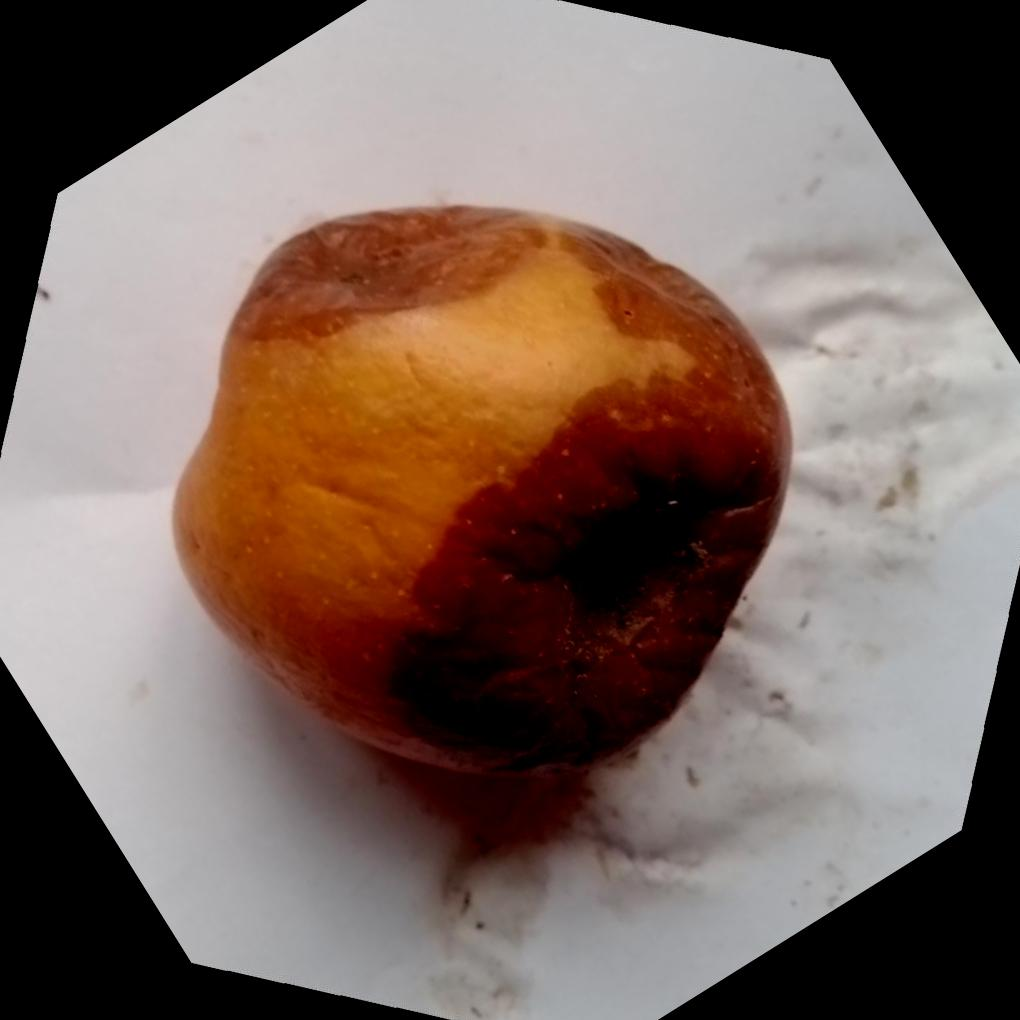FreshOrange: (170, 199, 800, 782)
